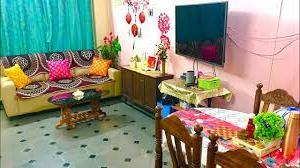TV: (172, 1, 228, 68)
chair: (154, 103, 203, 168), (247, 79, 300, 123), (208, 127, 264, 168)
sofa: (0, 41, 124, 118)
table: (162, 105, 300, 168), (120, 69, 173, 113), (47, 89, 105, 128), (157, 81, 231, 106)
